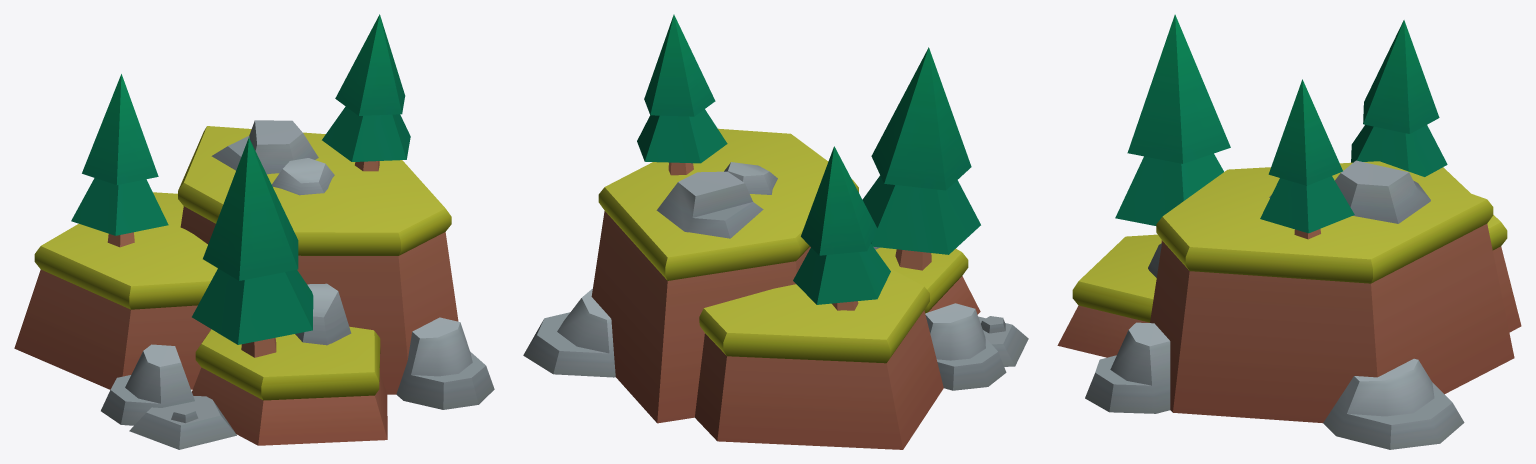
Rendered from hills.glb.
3 views of the same model, side by side, from view 1: azimuth 30°, elevation 25°; view 2: azimuth 150°, elevation 25°; view 3: azimuth 270°, elevation 25° (orthographic). The views are drawn at different scales.
Parts seen in each view (by area): view 1: hills_A_trees; view 2: hills_A_trees; view 3: hills_A_trees.
Part boxes in pixels (x1=…): hills_A_trees: x1=14, y1=14, x2=494, y2=449; hills_A_trees: x1=523, y1=14, x2=1028, y2=449; hills_A_trees: x1=1057, y1=14, x2=1521, y2=449.
Bounding box in the file's own units: 1.76 × 1.33 × 1.74.
Materials: 1 (1 with a texture image).
